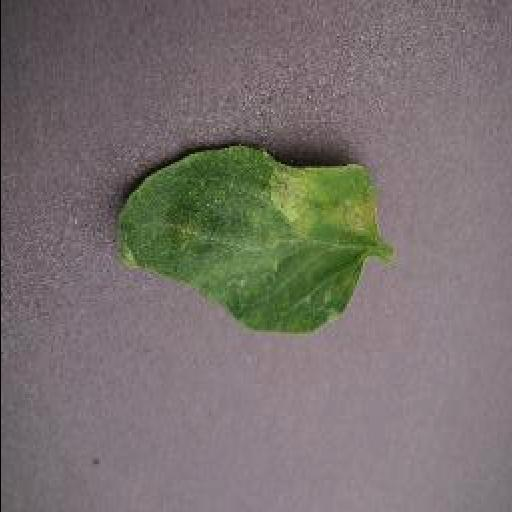disease_tomato: (110, 144, 384, 338)
